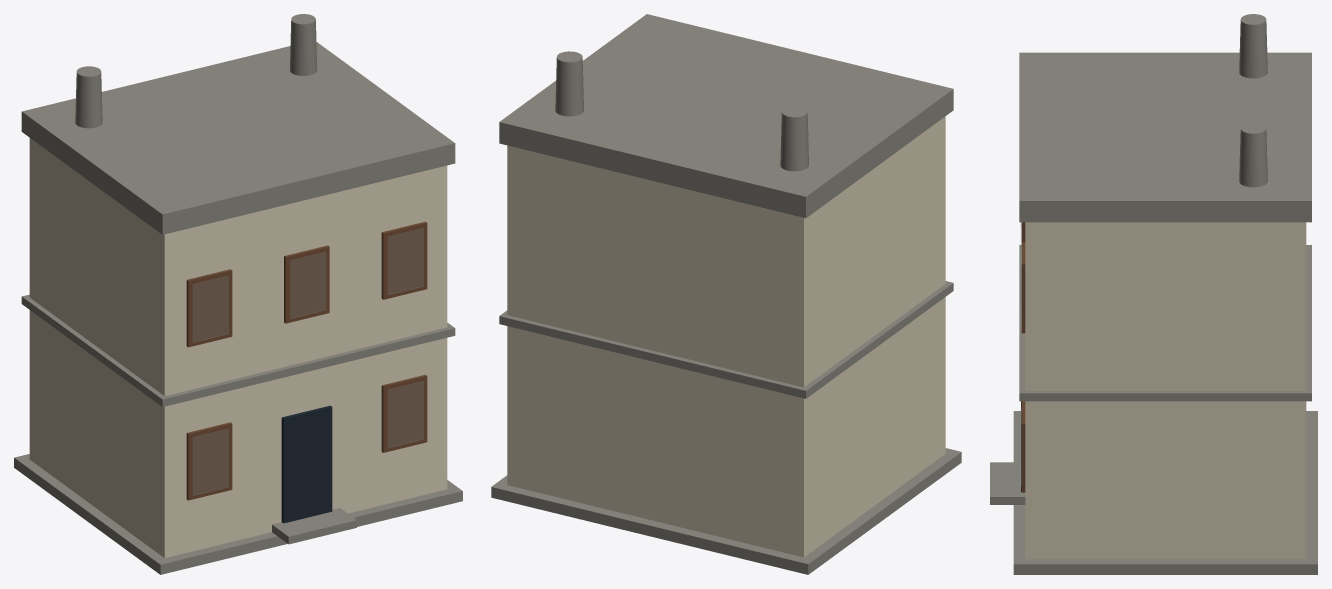
File: townhouse-lod0.glb
3 renders of one model, left to right at view 1: azimuth 30°, elevation 25°; view 2: azimuth 150°, elevation 25°; view 3: azimuth 270°, elevation 25°, orthographic. The views are drawn at different scales.
Parts seen in each view (by area): view 1: body, parapet, window-frame (×5), window-glass (×5), plinth, door, string-course, chimney (×2), door-step; view 2: body, parapet, plinth, string-course, chimney (×2); view 3: body, parapet, plinth, string-course, chimney (×2), door-step, window-frame (×2).
Boxes of the visible parts, x1,y1,x2,y2 form: body: (29, 138, 447, 558); parapet: (21, 42, 455, 234); window-frame (×5): (186, 221, 427, 500); window-glass (×5): (193, 228, 423, 495); plinth: (14, 454, 462, 574); door: (281, 405, 332, 523); string-course: (21, 294, 455, 406); chimney (×2): (75, 14, 317, 128); door-step: (272, 508, 356, 544); body: (507, 116, 945, 557); parapet: (499, 14, 953, 218); plinth: (491, 448, 961, 574); string-course: (499, 281, 953, 398); chimney (×2): (555, 51, 808, 171); body: (1025, 222, 1306, 559); parapet: (1019, 52, 1311, 222); plinth: (1013, 411, 1317, 574); string-course: (1019, 245, 1311, 401); chimney (×2): (1239, 14, 1267, 187); door-step: (990, 462, 1025, 504); window-frame (×2): (1021, 242, 1025, 492).
Bounding box in the file's own units: 6.2 × 8 × 5.6.
